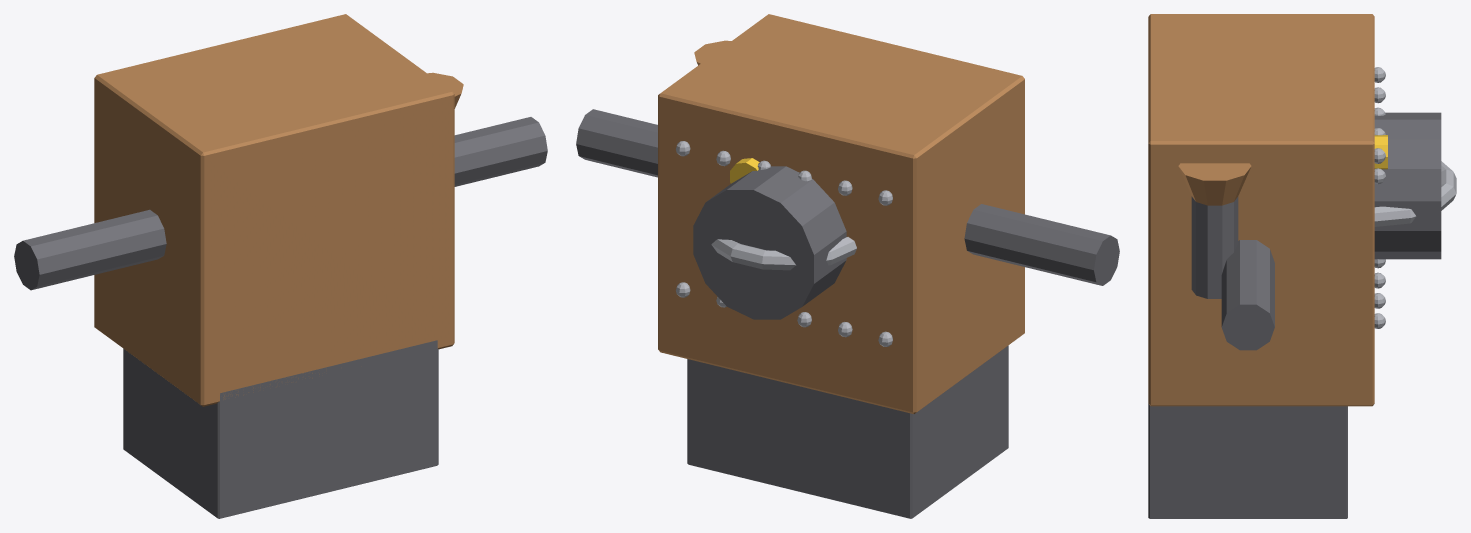
Rendered from siege-plate.glb.
3 views of the same model, side by side, from view 1: azimuth 30°, elevation 25°; view 2: azimuth 150°, elevation 25°; view 3: azimuth 270°, elevation 25° (orthographic). The views are drawn at different scales.
Visible parts, largest first — view 1: slab, pelvis, yoke; view 2: slab, pelvis, boiler, yoke, boilerring; view 3: slab, pelvis, boiler, yoke, exh, exhflare, boilerring.
Part boxes in pixels (x1,y1,x2,y2): slab: (94,14,454,406); pelvis: (123,340,438,518); yoke: (14,117,547,290); slab: (658,14,1024,413); pelvis: (687,345,1008,518); boiler: (693,166,846,319); yoke: (576,109,1119,285); boilerring: (711,237,856,270); slab: (1148,14,1374,406); pelvis: (1148,404,1347,518); boiler: (1374,112,1441,259); yoke: (1221,240,1274,350); exh: (1191,196,1238,298); exhflare: (1178,163,1251,205); boilerring: (1374,161,1456,226).
Size of the model in its own units: 0.92 by 0.64 by 0.4628.
